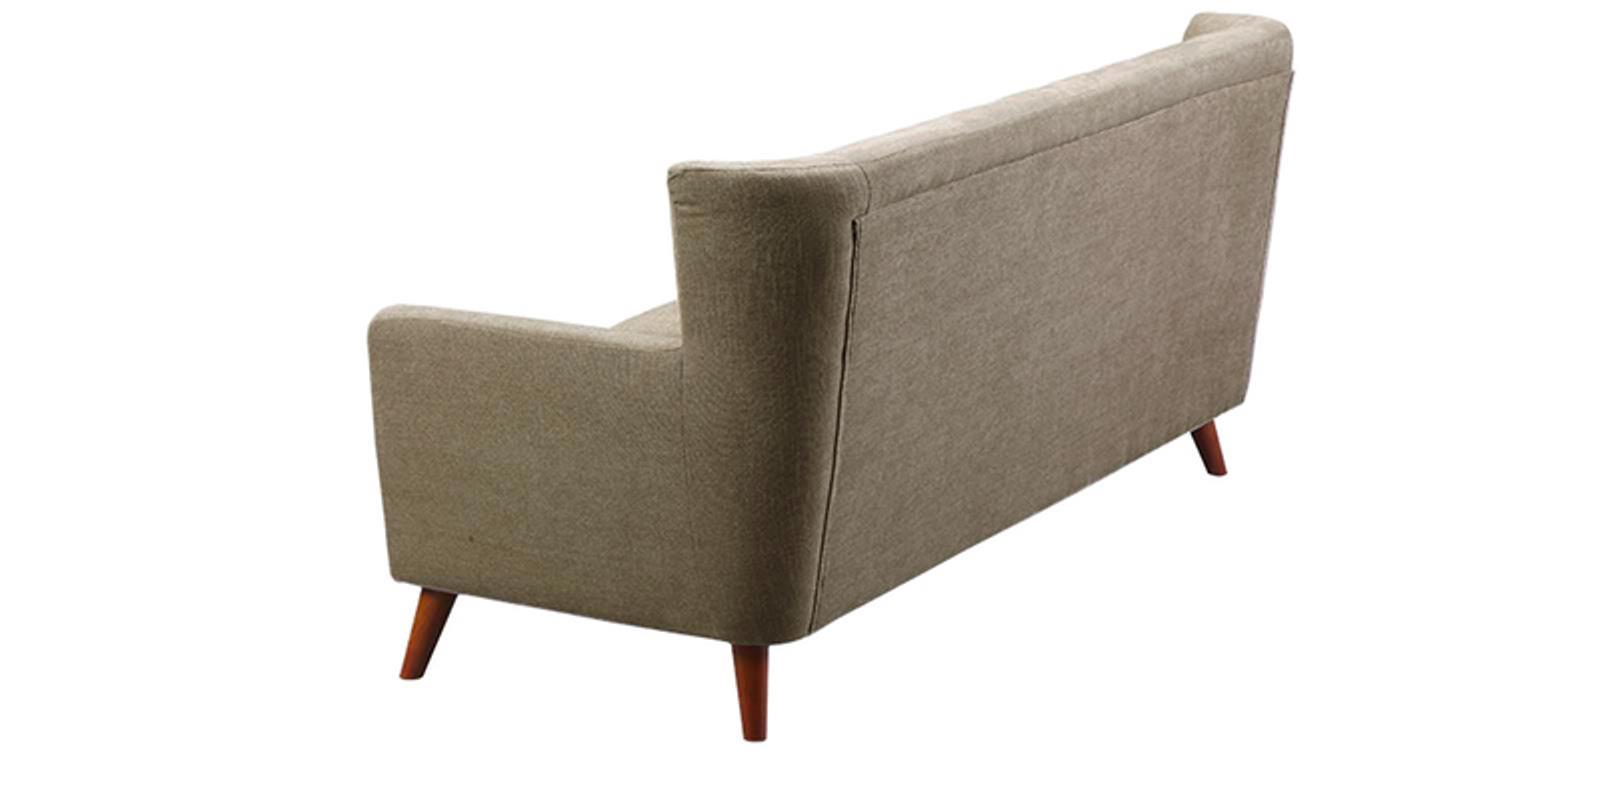Havana Three Seater Sofa in Ecru Colour by CasaCraft: (260, 8, 1311, 763)
